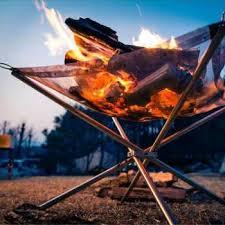Fire: (39, 7, 192, 113)
